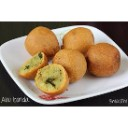bonda: (23, 24, 58, 56), (88, 45, 121, 77), (36, 65, 69, 96), (54, 48, 87, 79), (62, 27, 96, 54), (19, 53, 46, 79)
